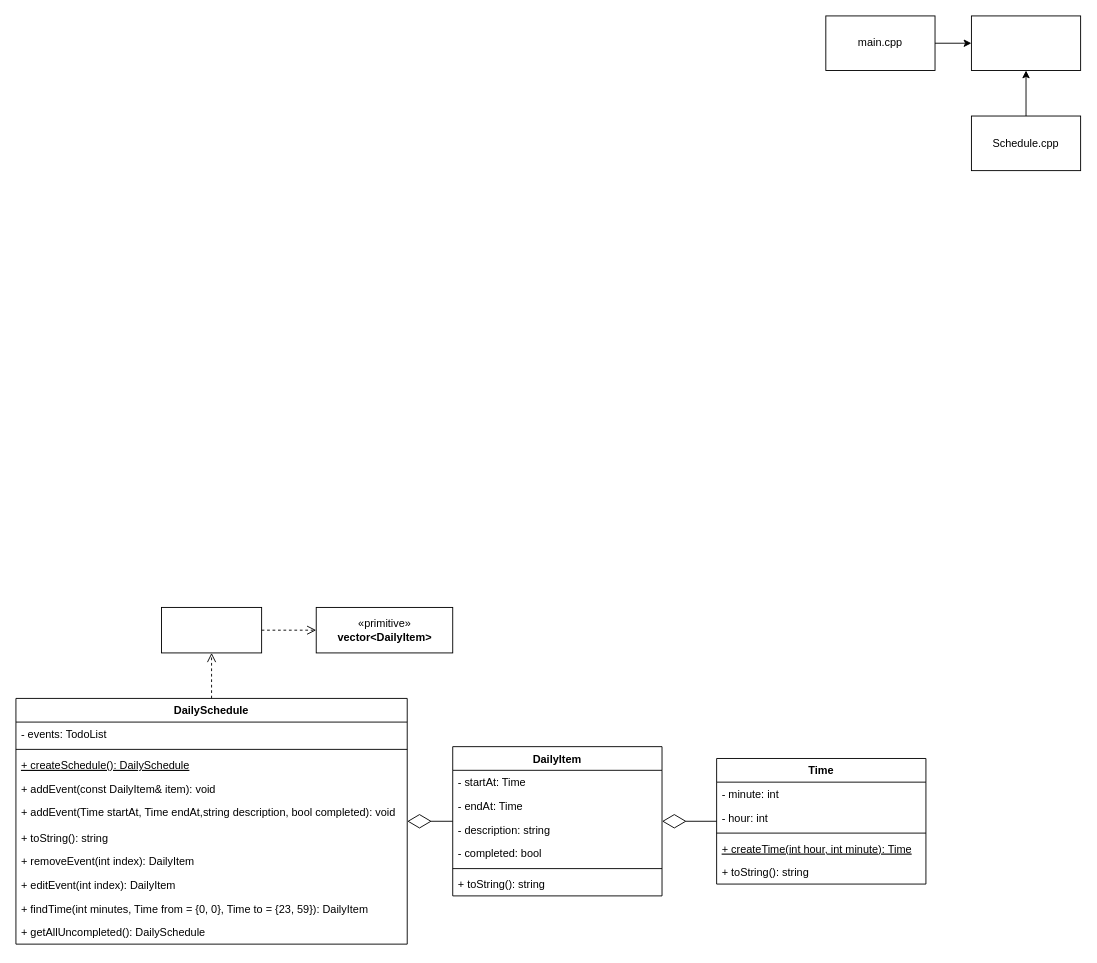
The diagram is 1097 pixels wide and 963 high, and some of its shapes have lost their labels. Here are the shapes that lost their labels. From the top down, the centre of each, then its label:
At point 1026,43: "Schedule.hpp".
At point 211,630: "«typedef» TodoList".
